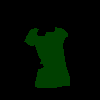t-shirt: (24, 26, 70, 88)
